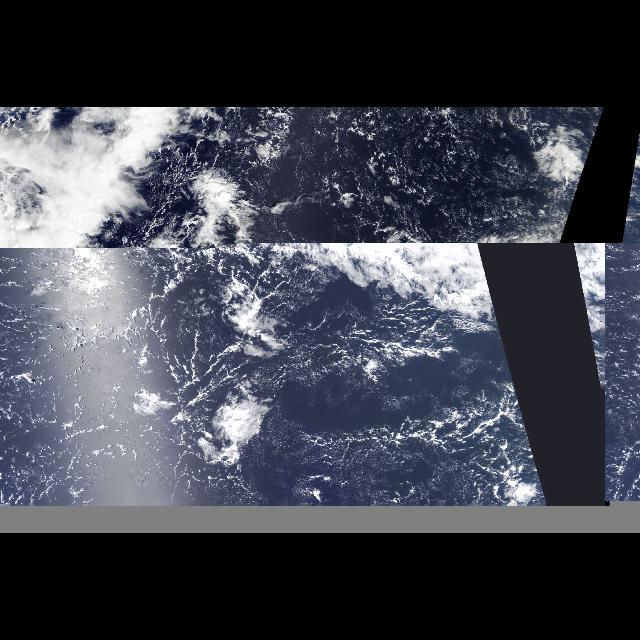Gravel: (5, 255, 538, 503)
